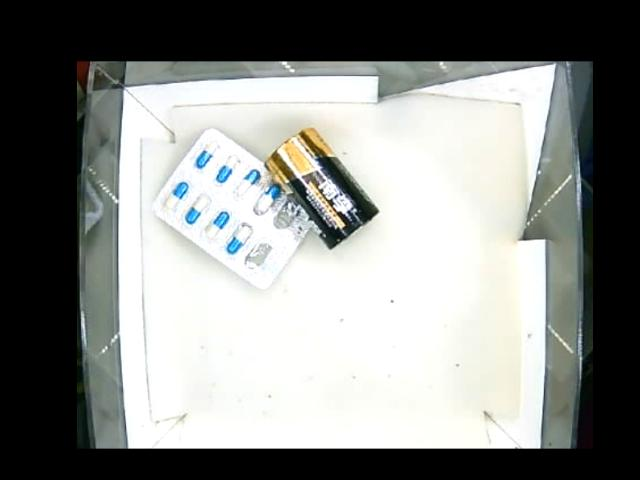Battery: (267, 127, 380, 252)
Medicine: (155, 126, 315, 288)
